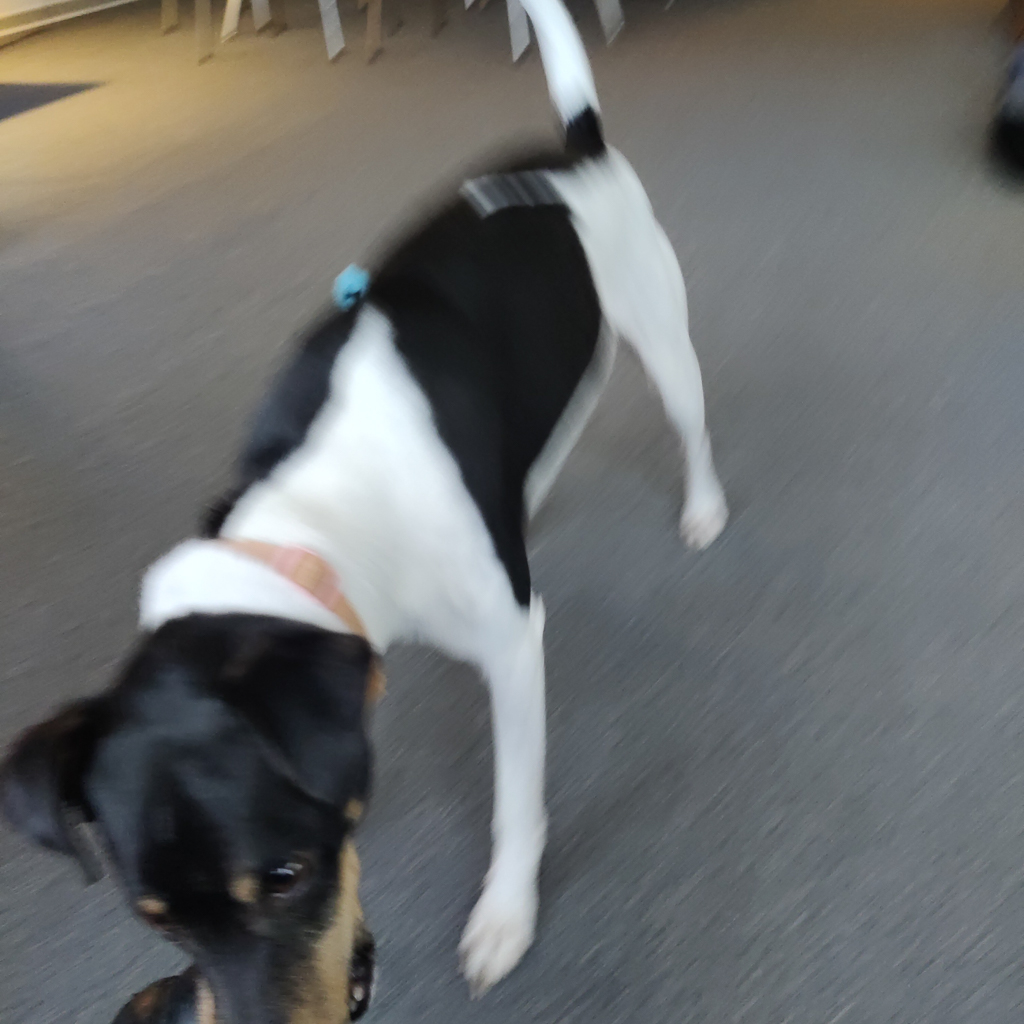Dog: (0, 0, 744, 1024)
